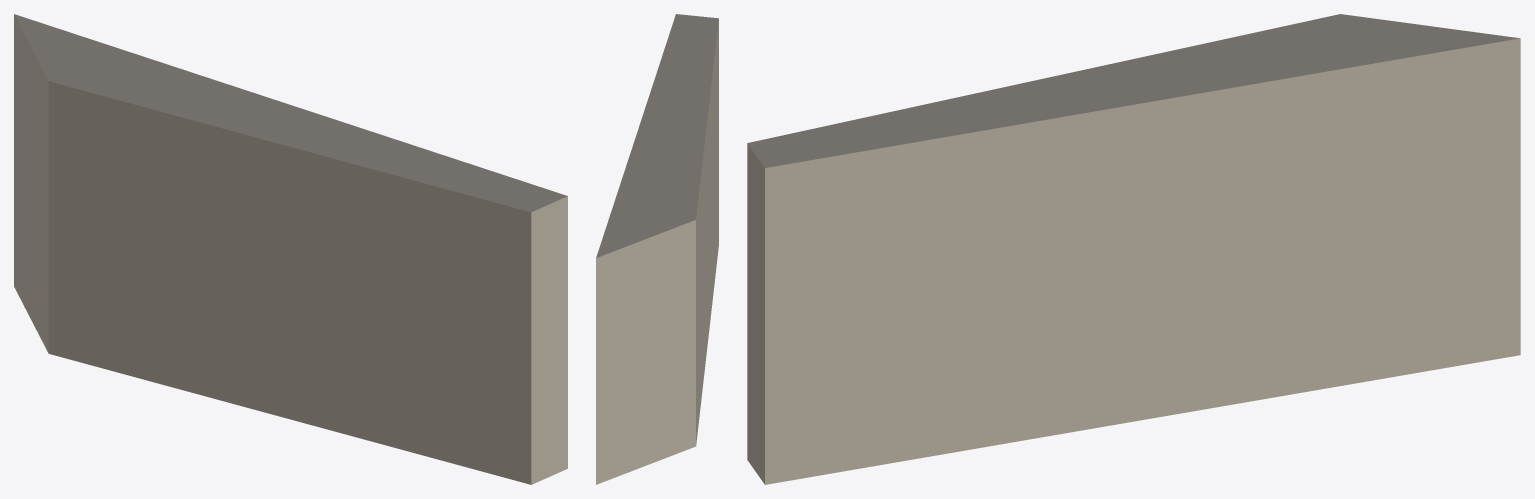
3 renders of one model, left to right at view 1: azimuth 30°, elevation 25°; view 2: azimuth 150°, elevation 25°; view 3: azimuth 270°, elevation 25°, orthographic. The views are drawn at different scales.
Parts seen in each view (by area): view 1: HP-w1196704493; view 2: HP-w1196704493; view 3: HP-w1196704493.
Part boxes in pixels (x1,y1,x2,y2): HP-w1196704493: [14, 14, 567, 484]; HP-w1196704493: [596, 14, 718, 484]; HP-w1196704493: [747, 14, 1520, 484].
Bounding box in the file's own units: 18.78 × 18 × 39.81.
